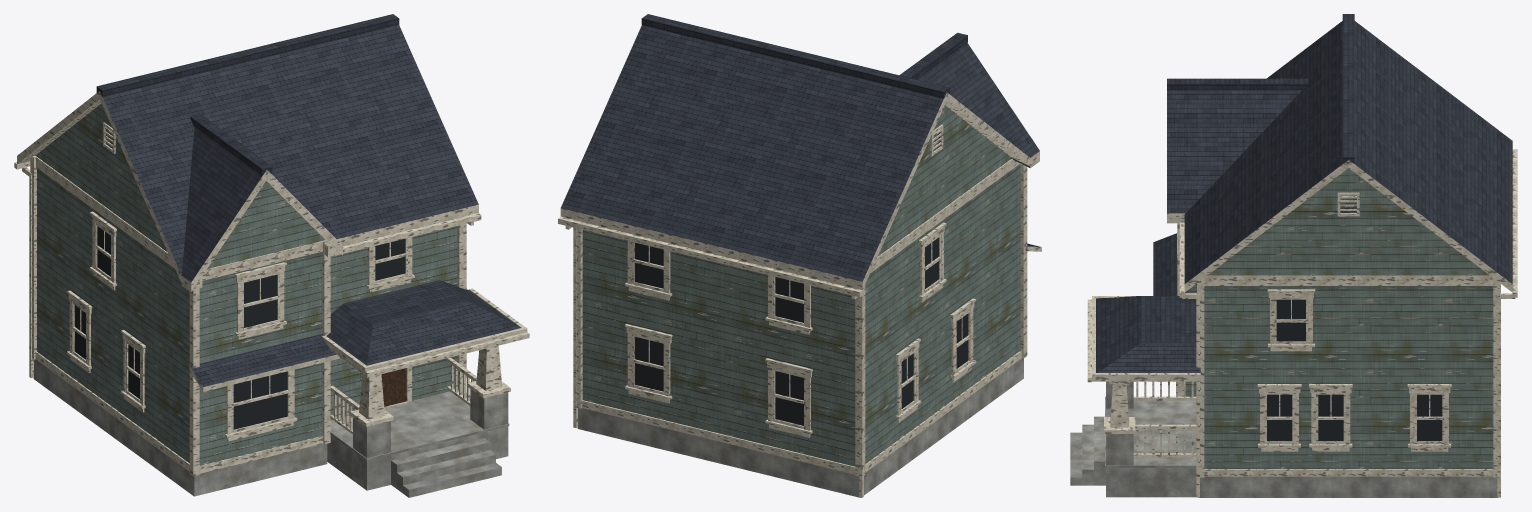
The model's file is SM_FirstJobHouse.fbx.
3 renders of one model, left to right at view 1: azimuth 30°, elevation 25°; view 2: azimuth 150°, elevation 25°; view 3: azimuth 270°, elevation 25°, orthographic. The views are drawn at different scales.
Parts seen in each view (by area): view 1: SM_FirstJobHouse; view 2: SM_FirstJobHouse; view 3: SM_FirstJobHouse.
Boxes of the visible parts, <box> form: SM_FirstJobHouse: <box>14,14,529,497</box>; SM_FirstJobHouse: <box>558,14,1041,497</box>; SM_FirstJobHouse: <box>1070,14,1517,497</box>.
Size of what is drawn, in the model's own units: 8.65 by 9.64 by 11.33.
Materials: 7 (5 with a texture image).
